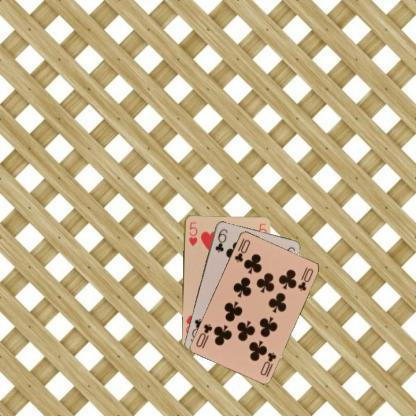10c: (258, 349, 278, 378), (232, 237, 252, 263)
5h: (186, 219, 198, 247)
6c: (212, 226, 228, 254)
